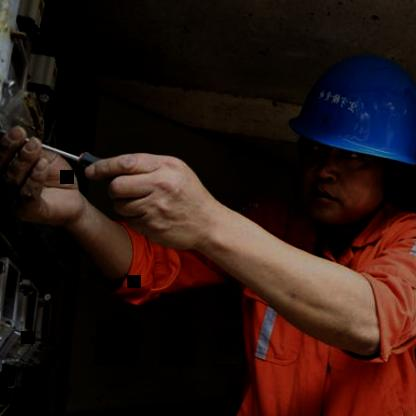helmet: (280, 36, 416, 240)
